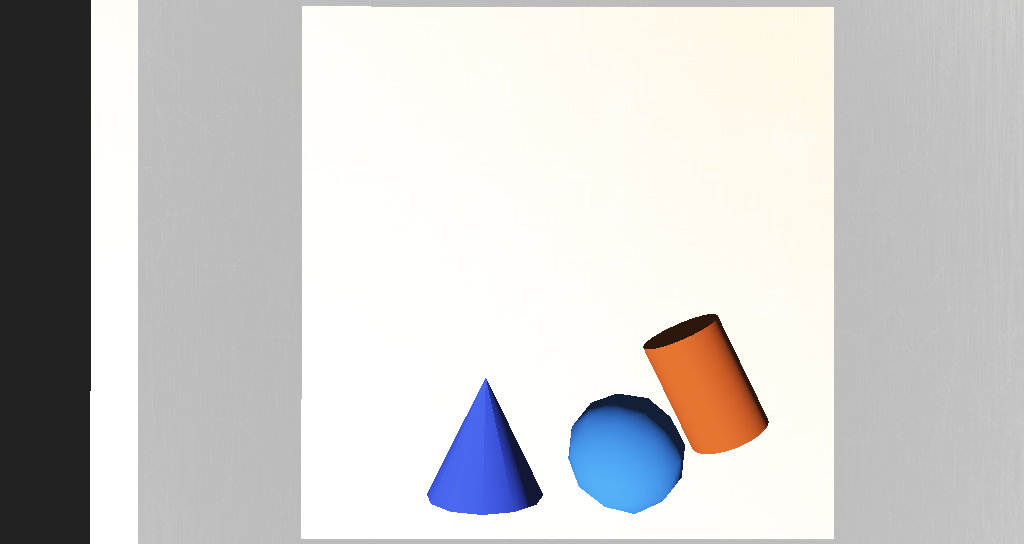cone: (546, 282, 613, 339)
cylinder: (428, 308, 488, 360)
sphere: (509, 317, 569, 360)
